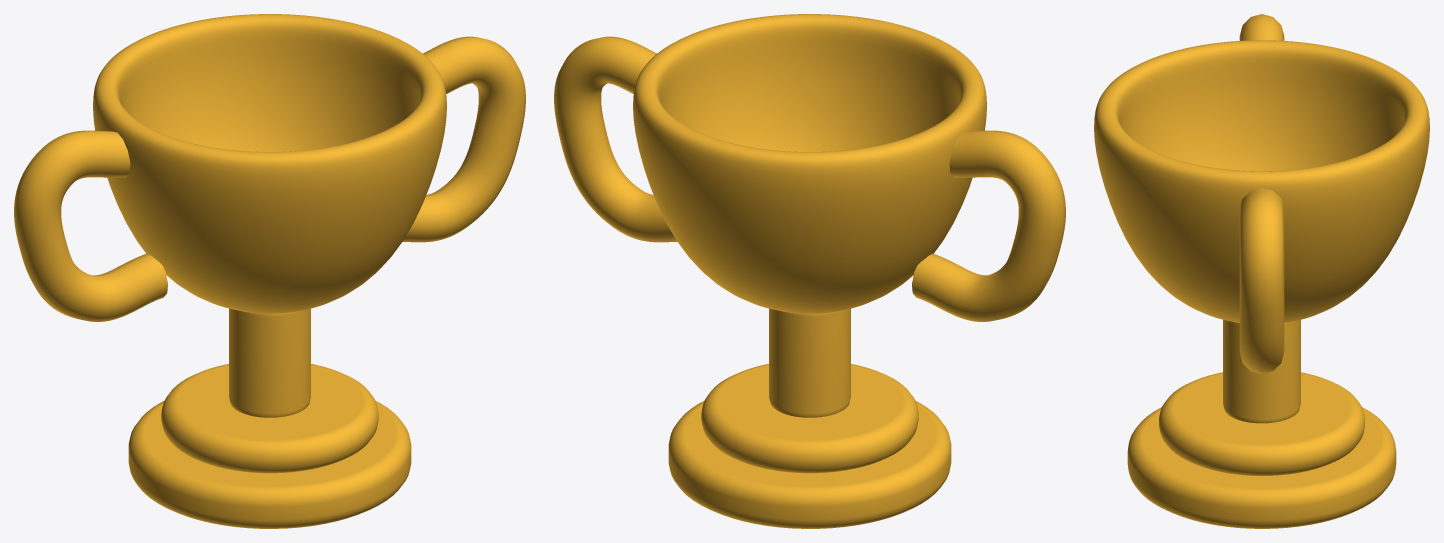
Rendered from trophy-gold.glb.
The picture shows the model from 3 angles, left to right: view 1: azimuth 30°, elevation 25°; view 2: azimuth 150°, elevation 25°; view 3: azimuth 270°, elevation 25°; orthographic projection. The views are drawn at different scales.
Visible parts, largest first — view 1: Hollow rounded trophy cup, Lower round plinth, Upper round plinth, Left rounded handle, Right rounded handle, Stem; view 2: Hollow rounded trophy cup, Lower round plinth, Upper round plinth, Left rounded handle, Right rounded handle, Stem; view 3: Hollow rounded trophy cup, Lower round plinth, Upper round plinth, Right rounded handle, Stem, Left rounded handle.
Part boxes in pixels (x1,y1,x2,y2): Hollow rounded trophy cup: (93, 14, 446, 313); Lower round plinth: (128, 400, 411, 528); Upper round plinth: (161, 364, 378, 473); Left rounded handle: (14, 130, 167, 321); Right rounded handle: (402, 36, 525, 242); Stem: (229, 308, 310, 417); Hollow rounded trophy cup: (633, 14, 986, 313); Lower round plinth: (668, 400, 951, 528); Upper round plinth: (701, 364, 918, 473); Left rounded handle: (912, 130, 1065, 321); Right rounded handle: (554, 36, 677, 242); Stem: (769, 308, 850, 417); Hollow rounded trophy cup: (1094, 40, 1429, 322); Lower round plinth: (1127, 407, 1396, 528); Upper round plinth: (1159, 372, 1364, 475); Right rounded handle: (1239, 188, 1284, 373); Stem: (1223, 320, 1300, 423); Left rounded handle: (1239, 14, 1284, 40).
Bounding box in the file's own units: 4.55 × 3.35 × 2.76.
